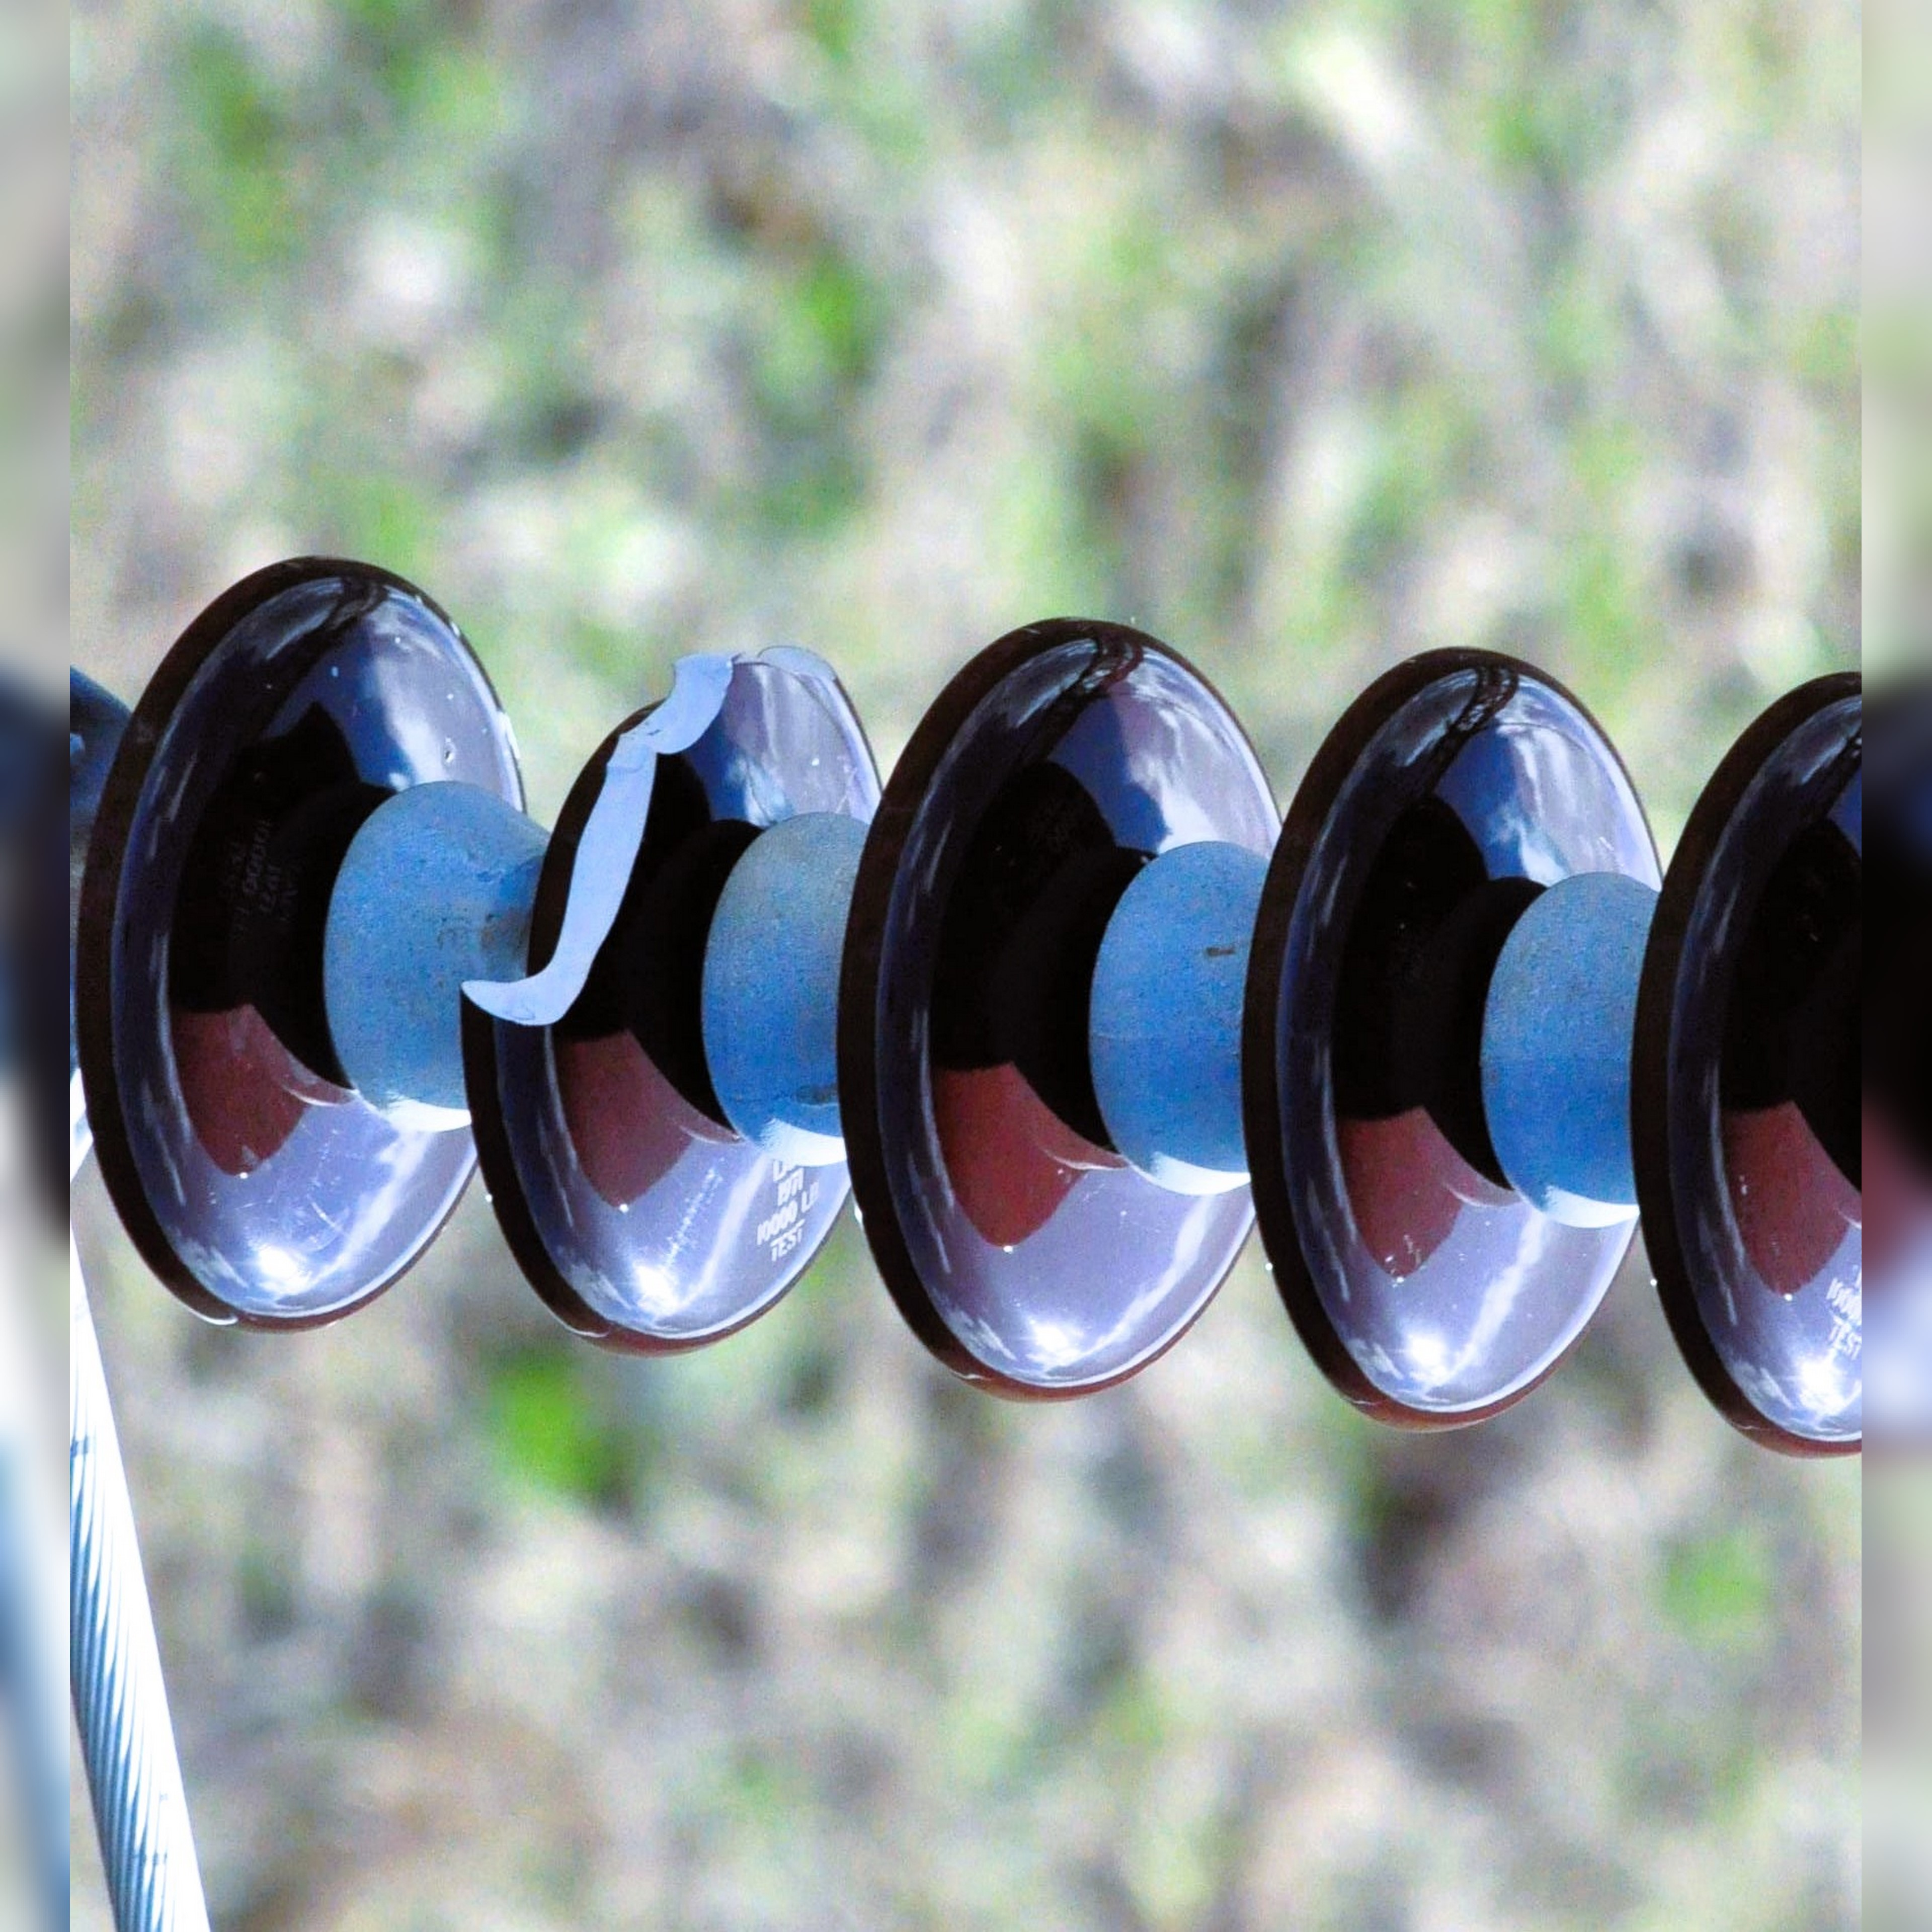insulator breakage: (442, 607, 899, 1362)
